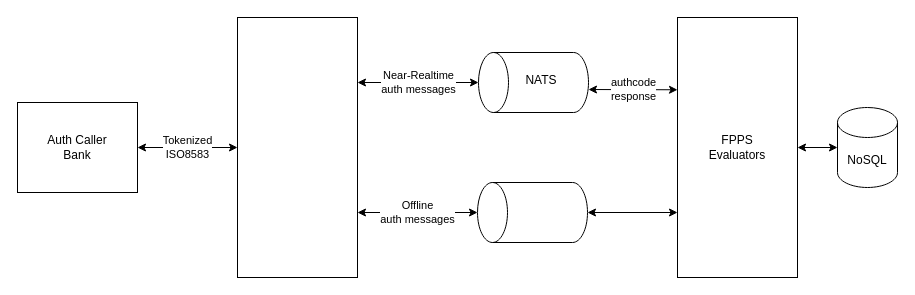
This 915x295 diagram has some shape labels left out. The shapes that lost their labels are listed below. From the top down, each one's centre as x and y in pixels, then its label:
At point (297, 147): "FPPS Brokers".
At point (532, 212): "Kafka / RedPanda".
